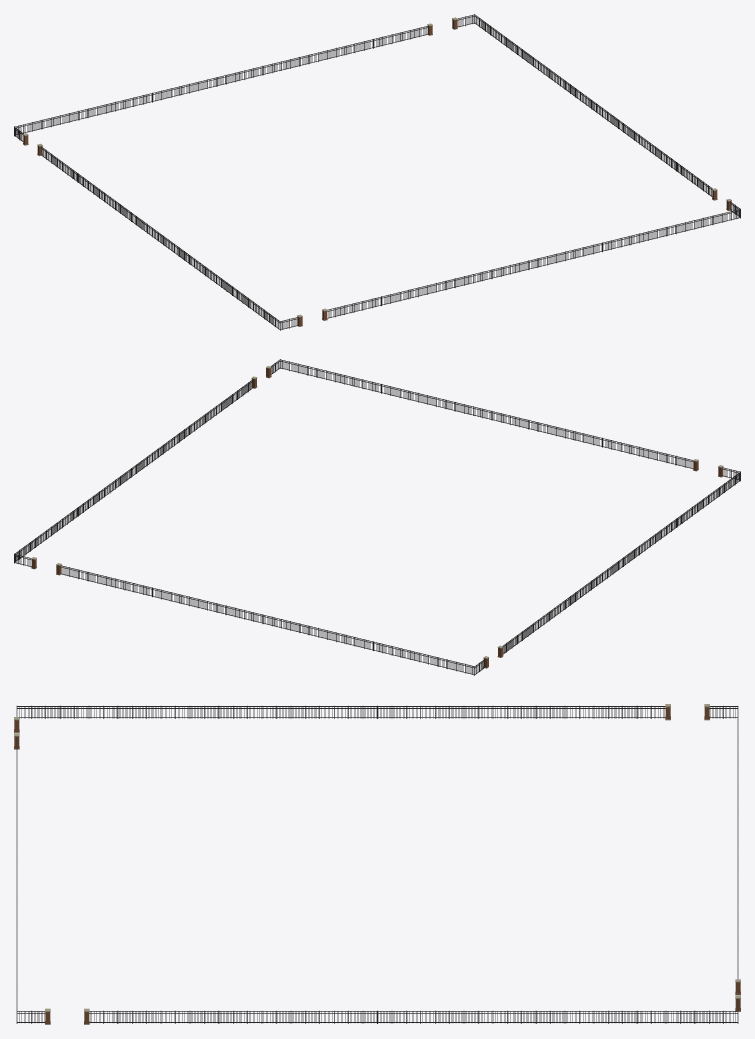
Rendered from Perimeter.fbx.
3 renders of one model, top to bottom at view 1: azimuth 30°, elevation 25°; view 2: azimuth 150°, elevation 25°; view 3: azimuth 270°, elevation 25°, orthographic. The views are drawn at different scales.
Visible parts, largest first — view 1: Perimeter; view 2: Perimeter; view 3: Perimeter.
Boxes of the visible parts, bbox=[...] form: Perimeter: bbox=[14, 14, 740, 330]; Perimeter: bbox=[14, 359, 740, 675]; Perimeter: bbox=[14, 704, 740, 1024].
Bounding box in the file's own units: 10080 × 210 × 10080.
